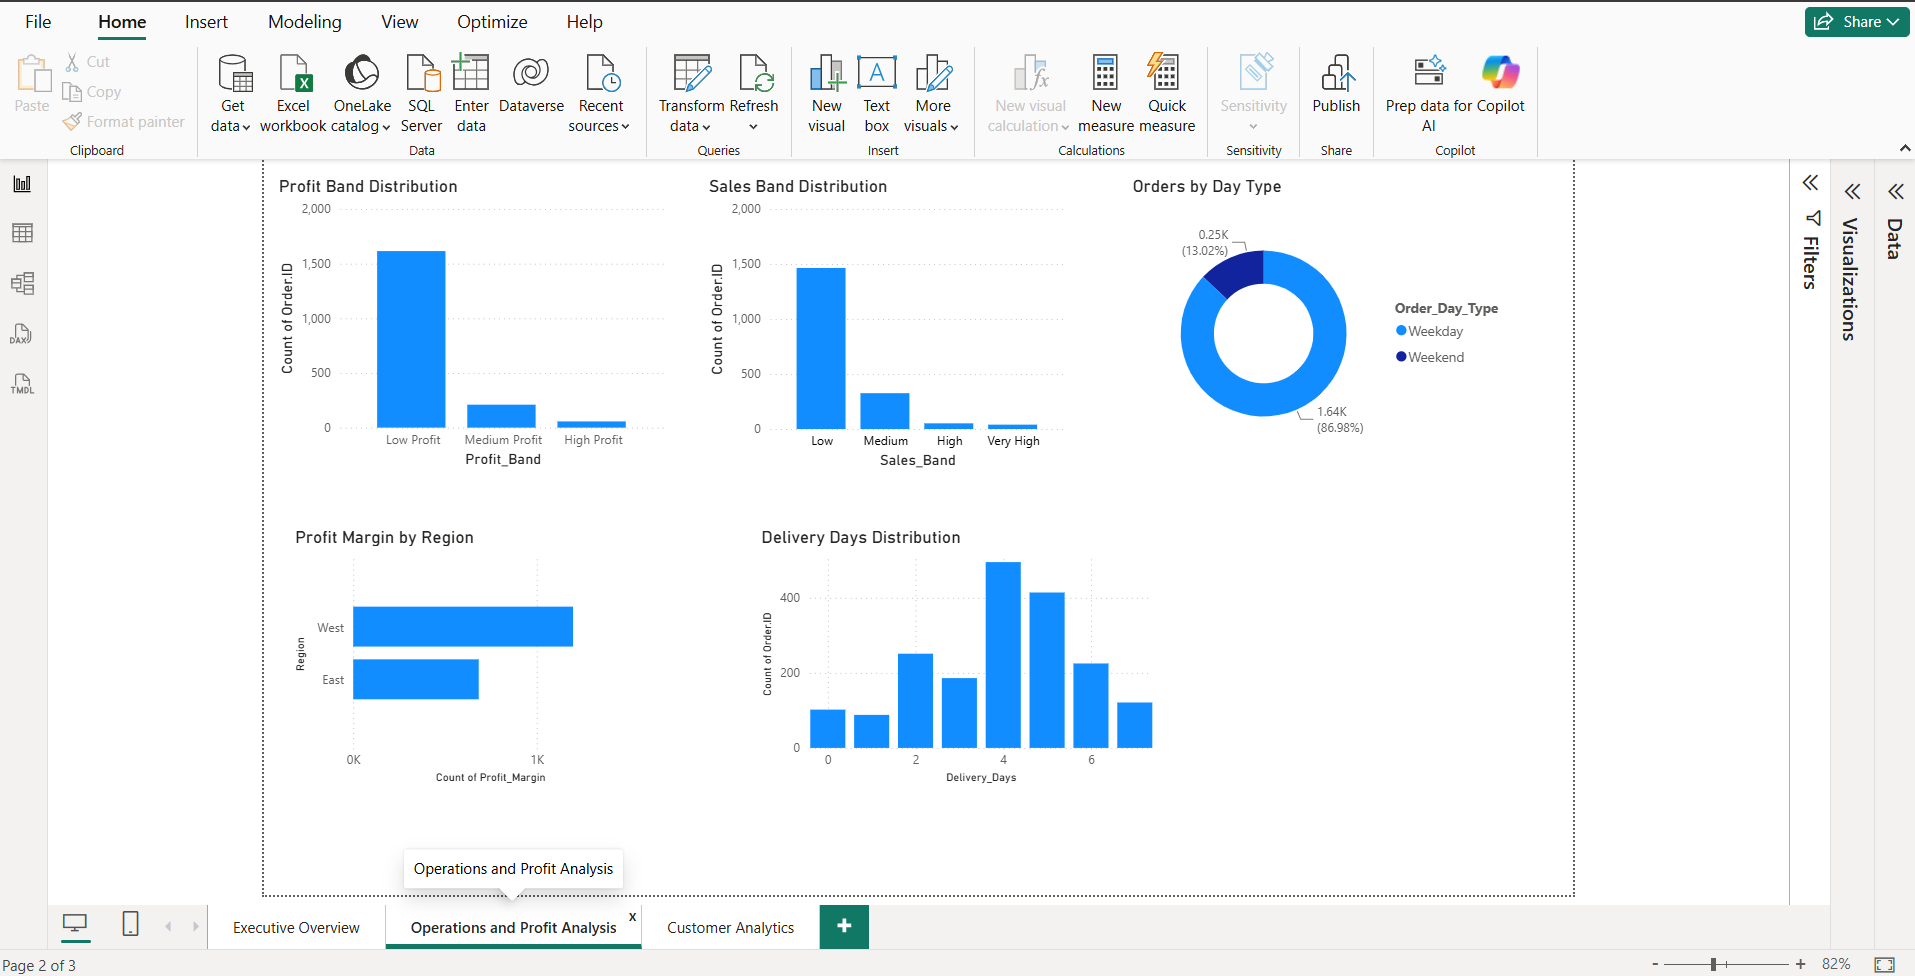

Layout of this report page (visuals, bound fields, positions):
{"tool":"powerbi","page":{"name":"Operations and Profit Analysis","canvas":[1280,720],"ordinal":1},"visuals":[{"type":"columnChart","title":"Profit Band Distribution","fields":{"Category":["superstore (3).Profit_Band"],"Y":["CountNonNull(superstore (3).Order.ID)"]},"box":[9.6,16.5,388.3,290.9],"z":0},{"type":"columnChart","title":"Sales Band Distribution","fields":{"Category":["superstore (3).Sales_Band"],"Y":["CountNonNull(superstore (3).Order.ID)"]},"box":[430.9,16.5,358.1,292.3],"z":1000},{"type":"barChart","title":"Profit Margin by Region","fields":{"Category":["superstore (3).Region"],"Y":["CountNonNull(superstore (3).Profit_Margin)"]},"box":[26.1,359.5,343.1,256.6],"z":2000},{"type":"clusteredColumnChart","title":"Delivery Days Distribution","fields":{"Category":["superstore (3).Delivery_Days"],"Y":["CountNonNull(superstore (3).Order.ID)"]},"box":[481.6,359.5,392.5,256.6],"z":3000},{"type":"donutChart","title":"Orders by Day Type","fields":{"Category":["superstore (3).Order_Day_Type"],"Y":["CountNonNull(superstore (3).Order.ID)"]},"box":[845.3,16.5,384.2,290.9],"z":3001}]}

Visuals, with their boxes on the page's 1280x720 design canvas (x1, y1, x2, y2). These are canvas units, not pixel positions in the 1915x976 screenshot, which may show the page scaled, cropped or inside an application window:
"Profit Band Distribution" columnChart: select_region(10, 16, 398, 307)
"Sales Band Distribution" columnChart: select_region(431, 16, 789, 309)
"Profit Margin by Region" barChart: select_region(26, 360, 369, 616)
"Delivery Days Distribution" clusteredColumnChart: select_region(482, 360, 874, 616)
"Orders by Day Type" donutChart: select_region(845, 16, 1230, 307)
